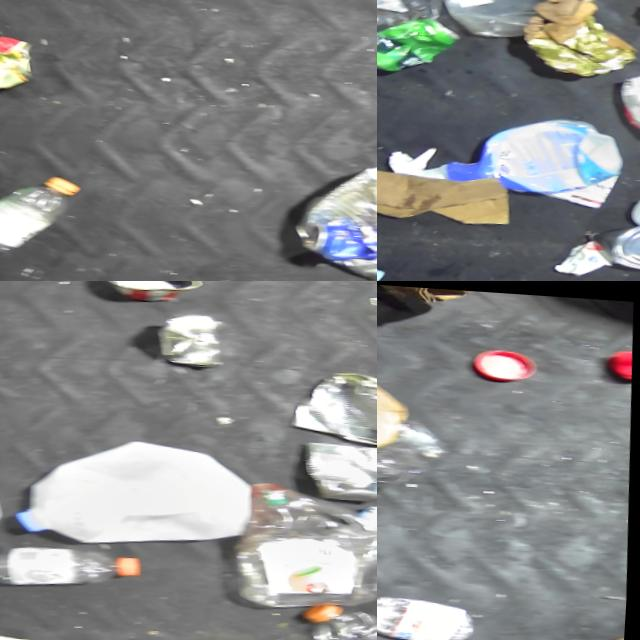can: (289, 145, 377, 281), (290, 357, 377, 445), (298, 431, 377, 500), (377, 14, 461, 76), (154, 305, 236, 368), (86, 281, 209, 304), (589, 215, 640, 270), (0, 33, 43, 95)
milk_jug: (11, 426, 260, 553)
non_white_jug: (229, 471, 377, 613)
plastic_bottle: (0, 534, 151, 591), (0, 170, 90, 260), (298, 590, 377, 640), (358, 490, 377, 548)
